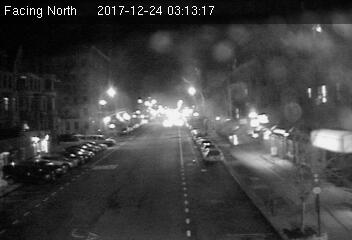car: (204, 147, 225, 163)
